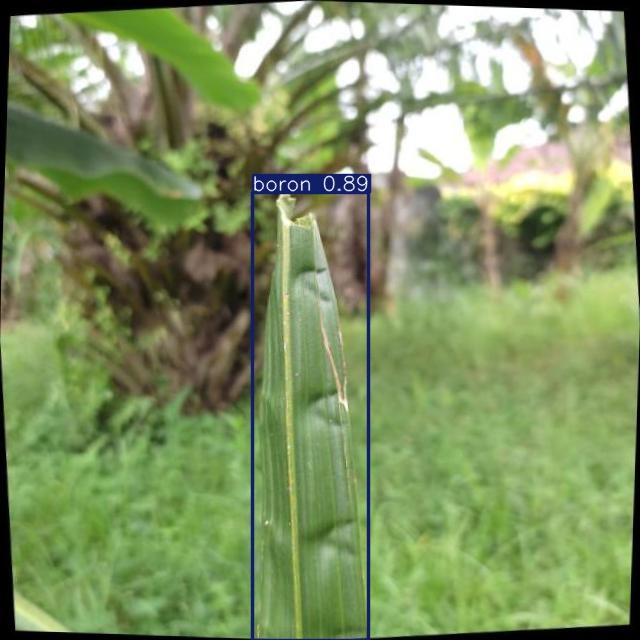nitrogen: (253, 193, 369, 640)
